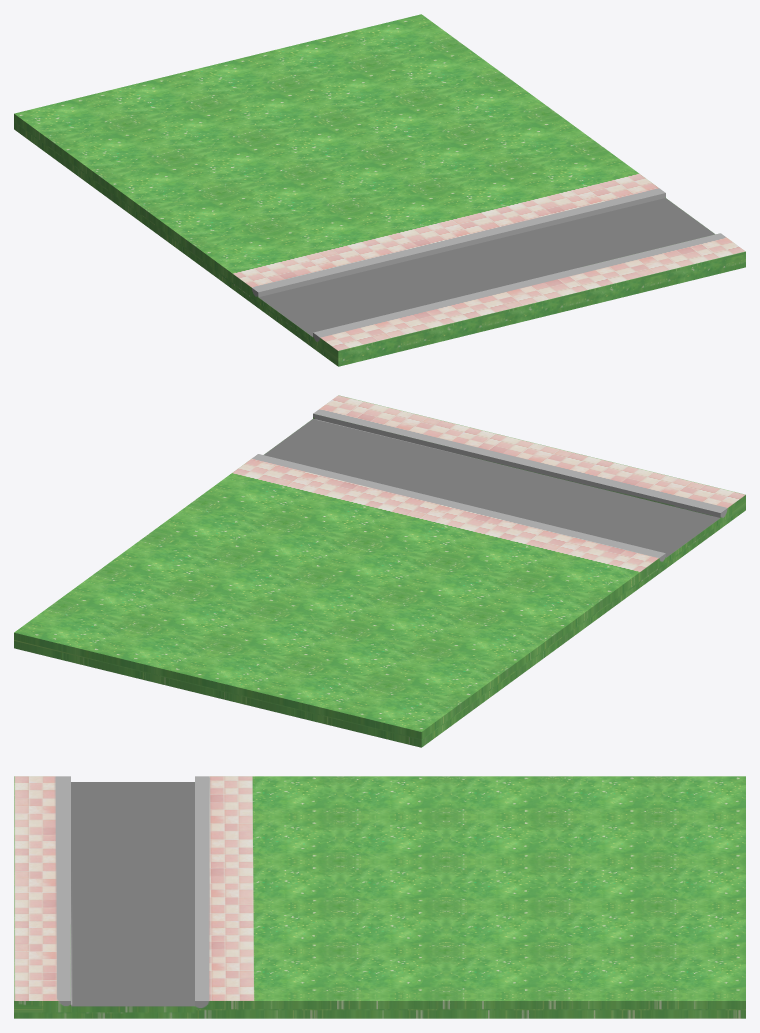
Rendered from dat.fbx.
3 views of the same model, one above another, from view 1: azimuth 30°, elevation 25°; view 2: azimuth 150°, elevation 25°; view 3: azimuth 270°, elevation 25° (orthographic). The views are drawn at different scales.
Parts seen in each view (by area): view 1: dat2; view 2: dat2; view 3: dat2.
Boxes of the visible parts, x1=… form: dat2: x1=14, y1=14, x2=745, y2=366; dat2: x1=14, y1=395, x2=745, y2=747; dat2: x1=14, y1=776, x2=745, y2=1018.
Bounding box in the file's own units: 1767 × 65.12 × 2436.
Materials: 1 (1 with a texture image).
